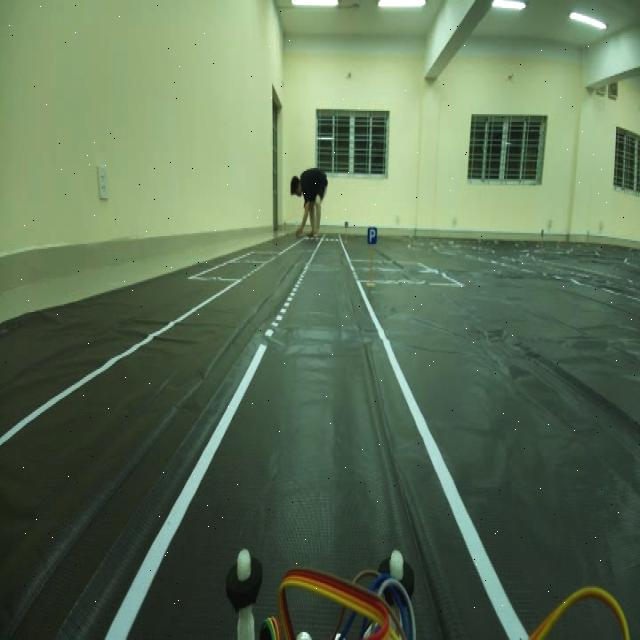parking: (364, 221, 381, 249)
